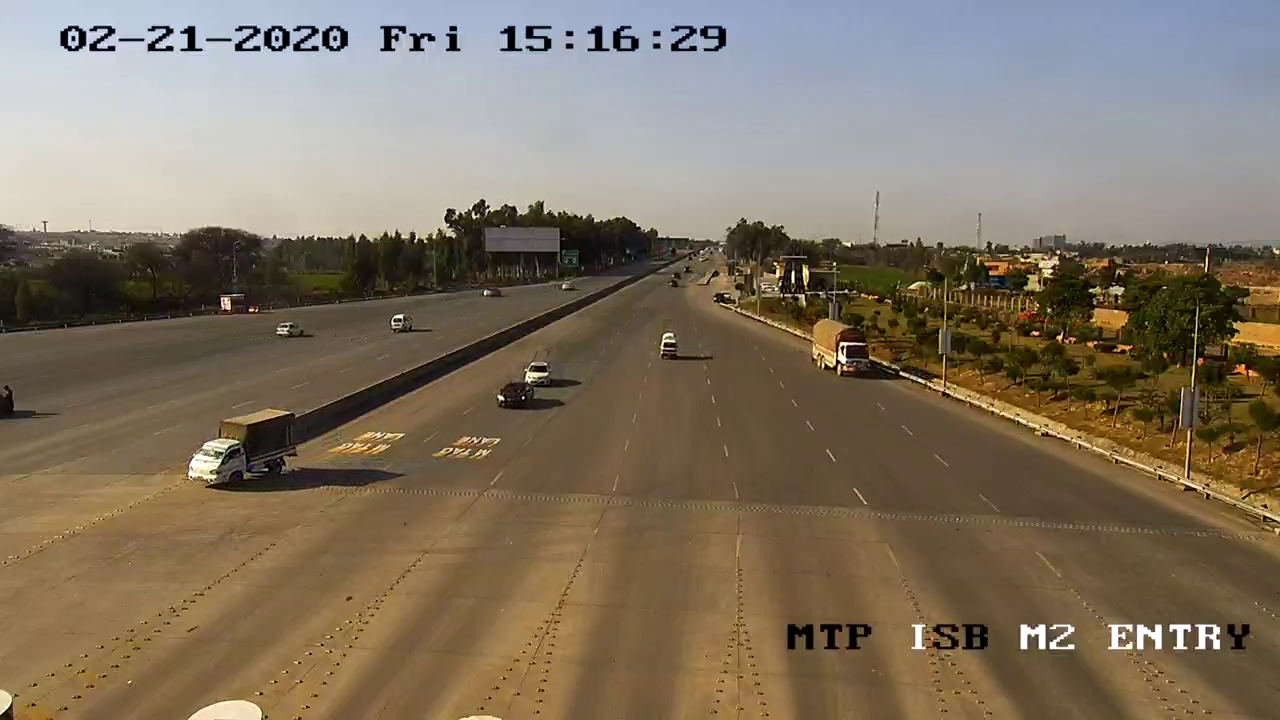f2: (185, 403, 309, 501)
f5: (807, 315, 877, 389)
